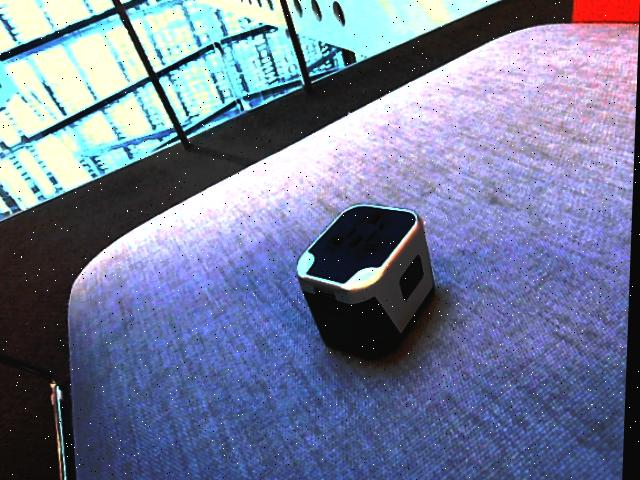adapter: (294, 202, 440, 360)
